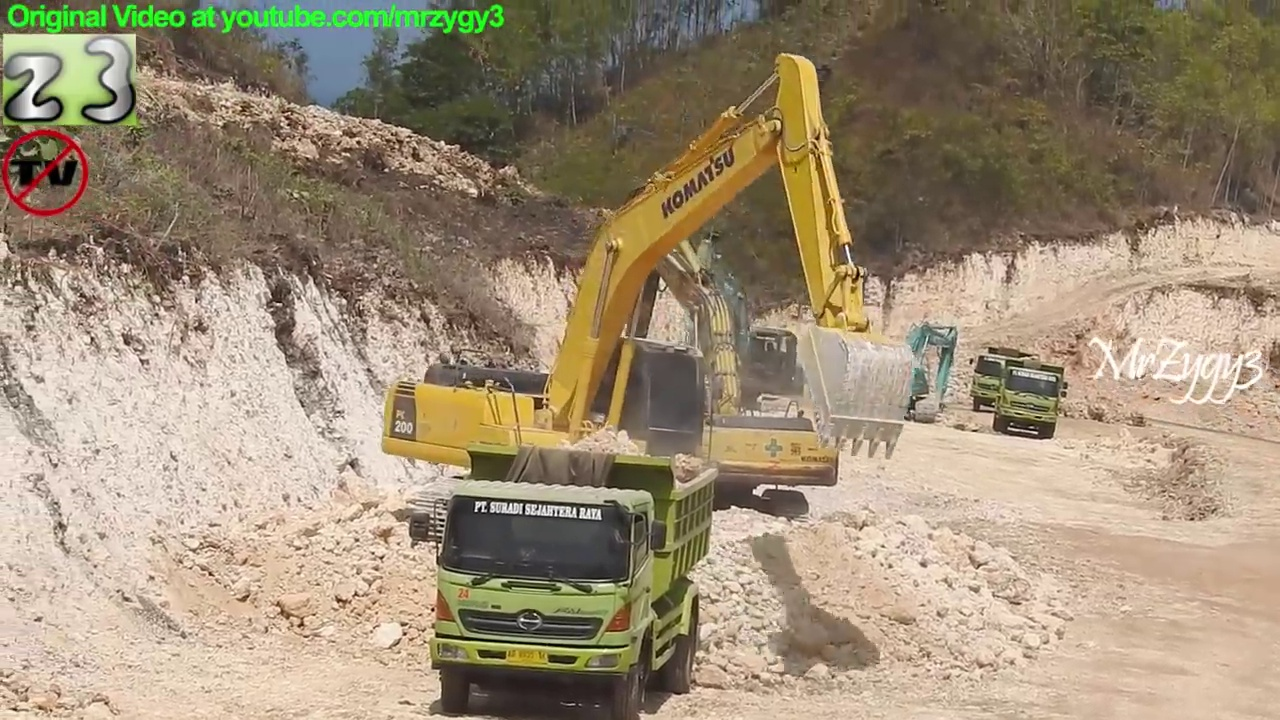excavator: (378, 47, 916, 561), (569, 210, 846, 530), (667, 231, 807, 431), (875, 317, 962, 431)
truck: (409, 438, 724, 720), (991, 358, 1072, 444), (965, 341, 1041, 419)
